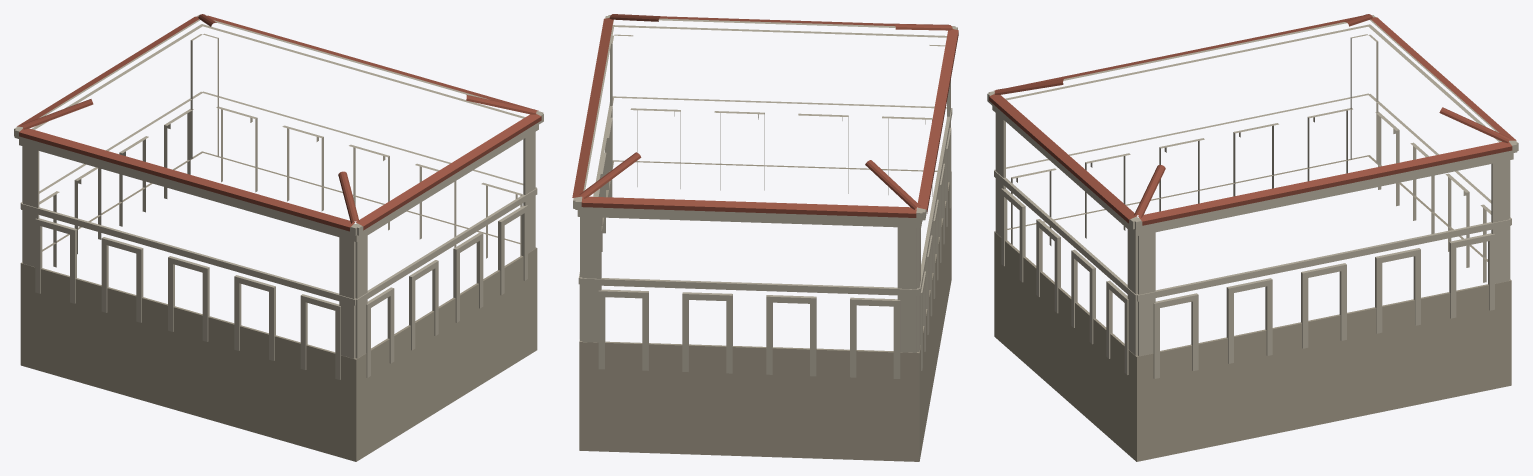
The picture shows the model from 3 angles, left to right: view 1: azimuth 30°, elevation 25°; view 2: azimuth 150°, elevation 25°; view 3: azimuth 270°, elevation 25°; orthographic projection. The views are drawn at different scales.
Parts seen in each view (by area): view 1: detail; view 2: detail; view 3: detail.
Part boxes in pixels (box(x1,y1,x2,y2)): detail: box(14, 14, 543, 461); detail: box(572, 14, 958, 461); detail: box(987, 14, 1518, 461).
Size of the model in its own units: 15.97 by 9.59 by 17.25.
